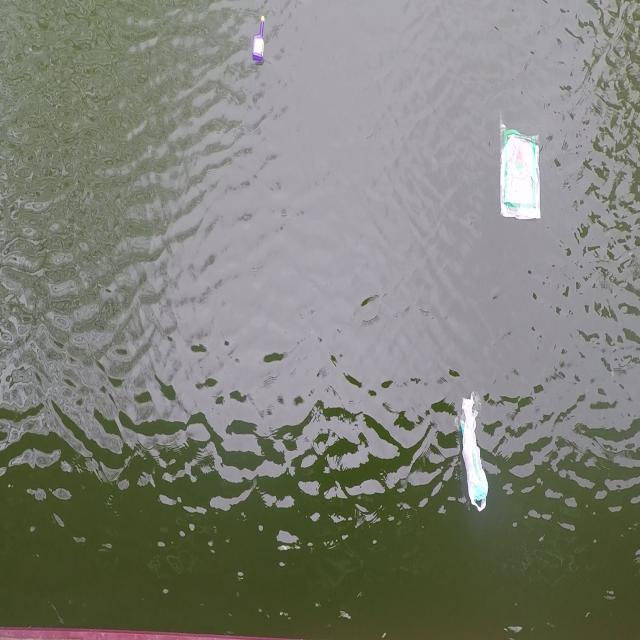Bouteille plastique: (248, 11, 269, 72)
Sac plastique: (492, 114, 547, 225), (451, 389, 492, 520)
